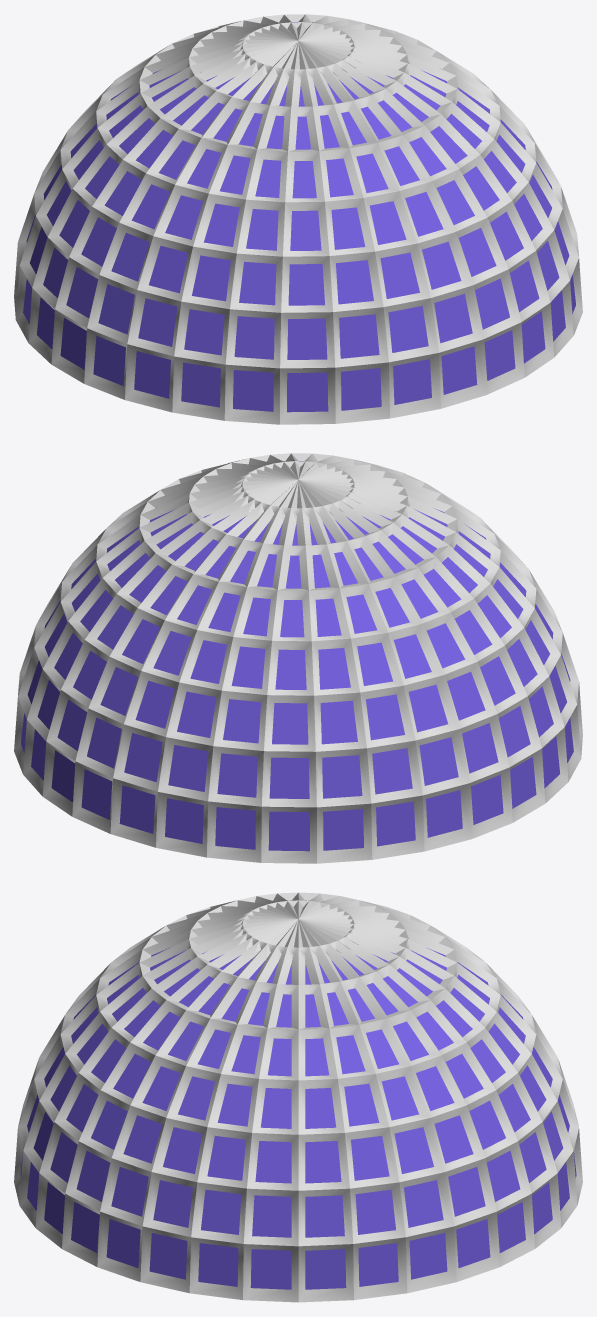
The model's file is Dome.fbx.
The picture shows the model from 3 angles, top to bottom: view 1: azimuth 30°, elevation 25°; view 2: azimuth 150°, elevation 25°; view 3: azimuth 270°, elevation 25°; orthographic projection.
Visible parts, largest first — view 1: Sphere, Sphere.001; view 2: Sphere, Sphere.001; view 3: Sphere, Sphere.001.
Part boxes in pixels (x1,y1,x2,y2): Sphere: [14, 14, 582, 424]; Sphere.001: [23, 22, 575, 412]; Sphere: [14, 453, 582, 863]; Sphere.001: [21, 461, 573, 851]; Sphere: [14, 892, 582, 1302]; Sphere.001: [20, 900, 576, 1289].
Size of the model in its own units: 204 by 104 by 204.
